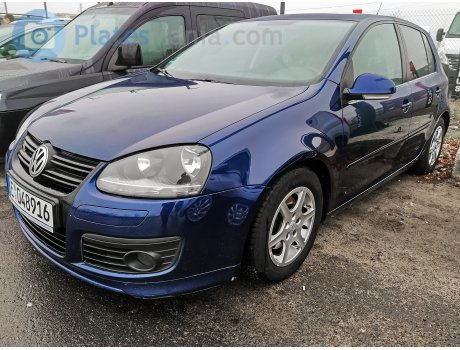License Plates: (5, 178, 55, 219)
